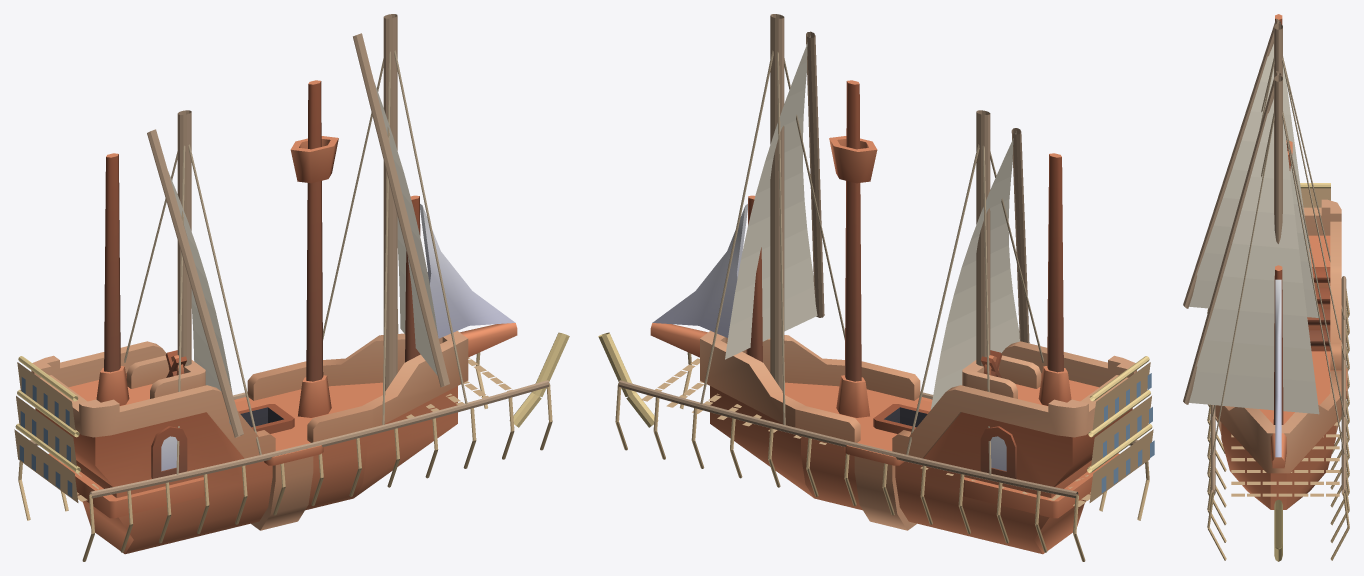
Rendered from oman_boom-custom.glb.
3 views of the same model, side by side, from view 1: azimuth 30°, elevation 25°; view 2: azimuth 150°, elevation 25°; view 3: azimuth 270°, elevation 25° (orthographic). The views are drawn at different scales.
Parts seen in each view (by area): view 1: ship-medium, oman_boom-custom-geometry; view 2: ship-medium, oman_boom-custom-geometry; view 3: oman_boom-custom-geometry, ship-medium.
Boxes of the visible parts, x1=… form: ship-medium: x1=31, y1=80, x2=517, y2=554; oman_boom-custom-geometry: x1=14, y1=14, x2=569, y2=561; ship-medium: x1=650, y1=80, x2=1136, y2=554; oman_boom-custom-geometry: x1=598, y1=14, x2=1154, y2=561; oman_boom-custom-geometry: x1=1183, y1=18, x2=1349, y2=561; ship-medium: x1=1215, y1=14, x2=1347, y2=509.
Size of the model in its own units: 42.62 by 36 by 12.22.
Materials: 8 (1 with a texture image).
